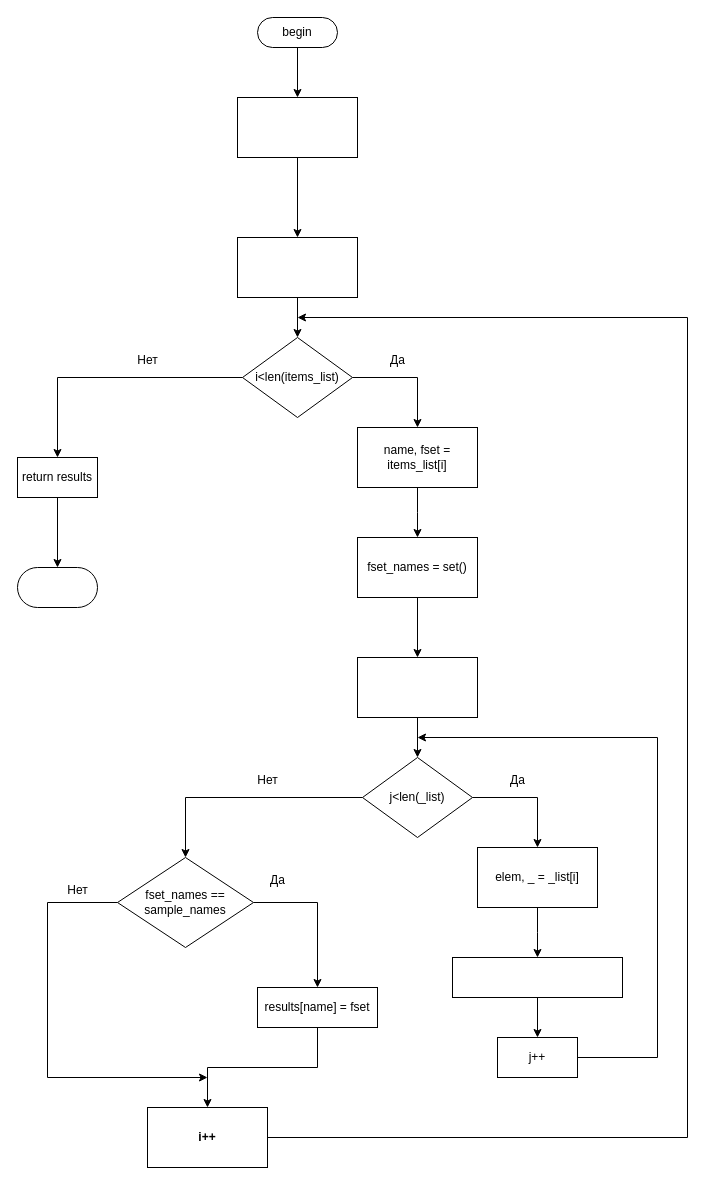
This 713x1185 diagram has some shape labels left out. The centre of each missing label's shape, as x and y in pixels:
"_list = list(fset.items()) j=0" belongs at pixel 417 687.
"end" belongs at pixel 57 587.
"fset_names . add ( elem )" belongs at pixel 537 977.
"items_list = list(facts.items()) i=0" belongs at pixel 297 267.
"sample_names = {elem for elem, _ in sample_set} results = {}" belongs at pixel 297 127.
